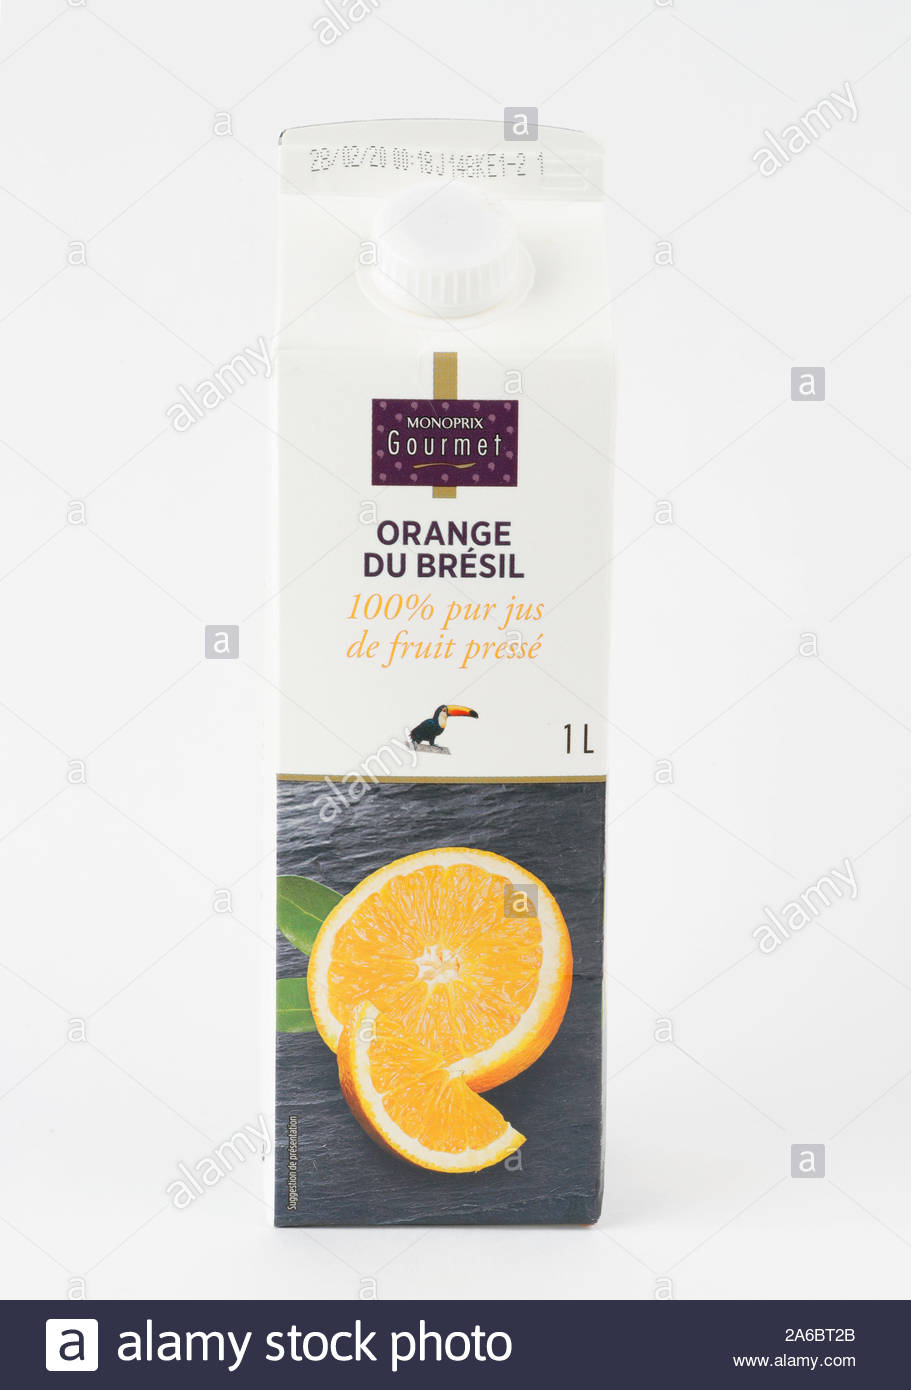carton: (225, 72, 690, 1242)
